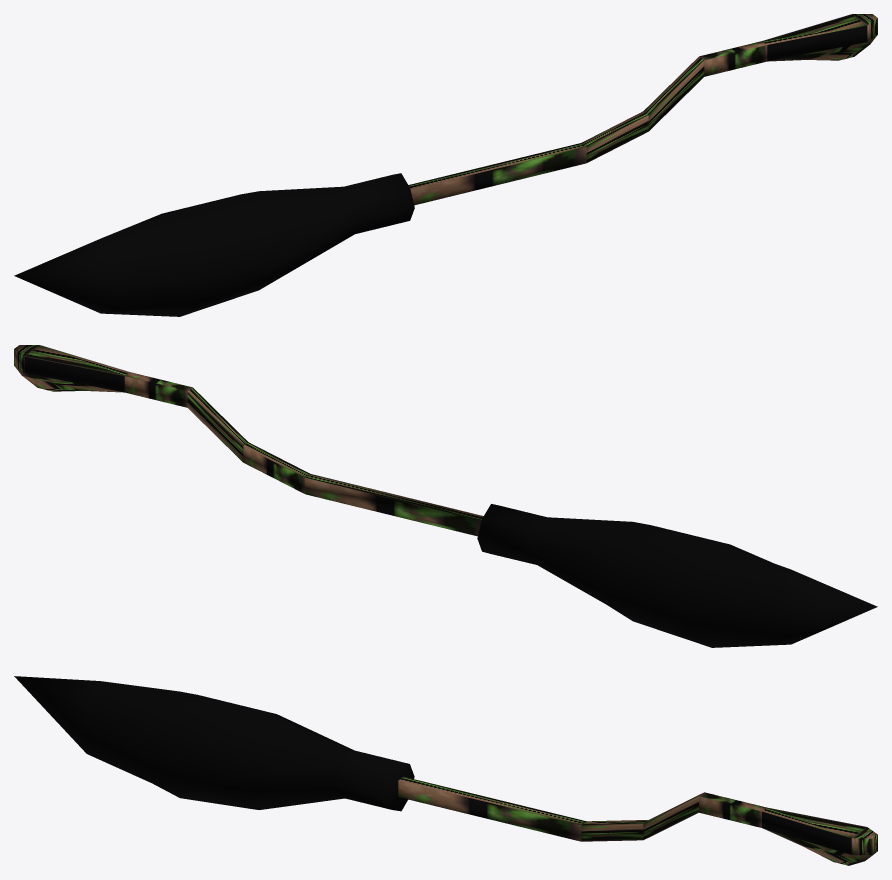
The picture shows the model from 3 angles, top to bottom: view 1: azimuth 30°, elevation 25°; view 2: azimuth 150°, elevation 25°; view 3: azimuth 330°, elevation 25°; orthographic projection.
Parts seen in each view (by area): view 1: T1L2M008_12; view 2: T1L2M008_12; view 3: T1L2M008_12.
Part boxes in pixels (box(x1,y1,x2,y2)): T1L2M008_12: box(14, 14, 877, 316); T1L2M008_12: box(14, 345, 877, 647); T1L2M008_12: box(14, 676, 877, 865).
Bounding box in the file's own units: 2.18 × 0.3174 × 0.2393.
